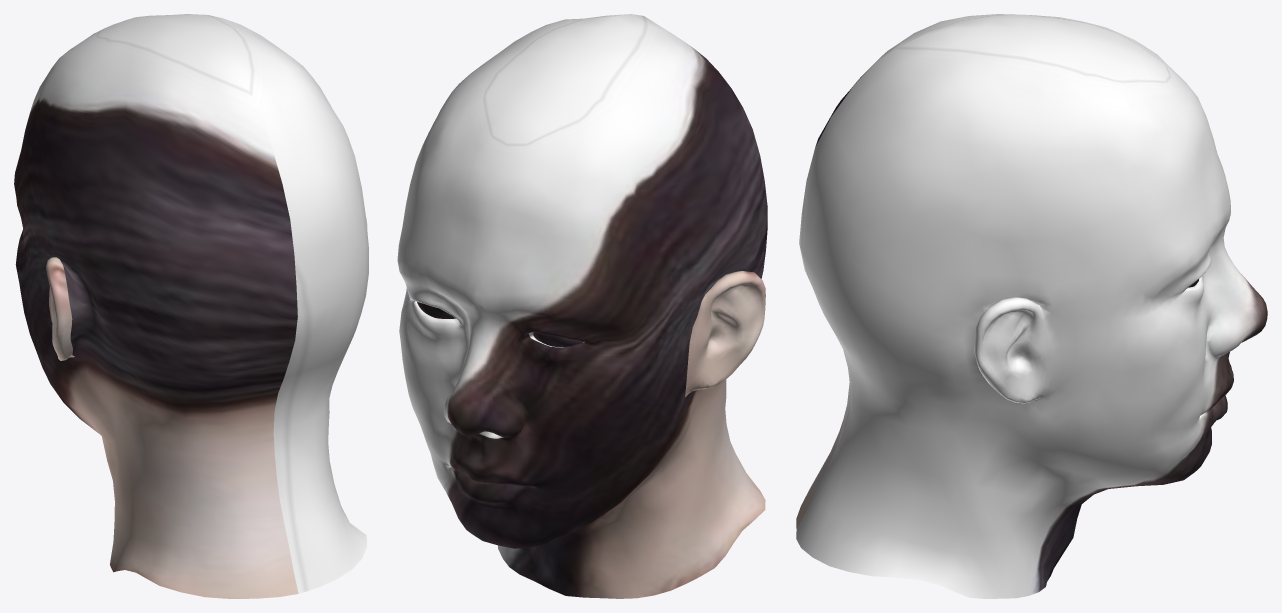
The model's file is Face_Fat_test_03.fbx.
3 renders of one model, left to right at view 1: azimuth 30°, elevation 25°; view 2: azimuth 150°, elevation 25°; view 3: azimuth 270°, elevation 25°, orthographic. The views are drawn at different scales.
Parts seen in each view (by area): view 1: Face_fatBS2; view 2: Face_fatBS2; view 3: Face_fatBS2.
Part boxes in pixels (x1,y1,x2,y2): Face_fatBS2: (14,14,368,598); Face_fatBS2: (397,14,767,598); Face_fatBS2: (796,14,1267,598).
Size of the model in its own units: 16.85 by 26.77 by 21.12.
